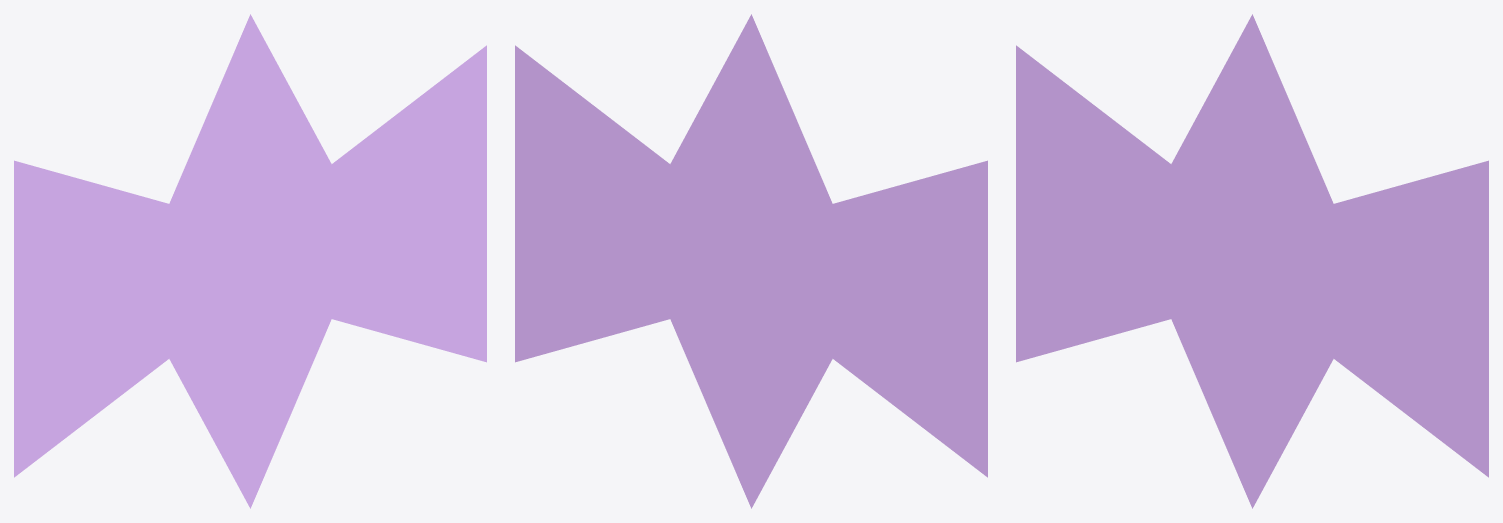
The model's file is landmark.gltf.
3 views of the same model, side by side, from view 1: azimuth 30°, elevation 25°; view 2: azimuth 150°, elevation 25°; view 3: azimuth 330°, elevation 25° (orthographic).
Parts seen in each view (by area): view 1: East crystal, North crystal, West crystal, South crystal; view 2: East crystal, North crystal, West crystal, South crystal; view 3: West crystal, North crystal, East crystal, South crystal.
Part boxes in pixels (x1,y1,x2,y2): East crystal: (184, 45, 486, 362); North crystal: (99, 14, 401, 367); West crystal: (14, 160, 237, 477); South crystal: (99, 177, 331, 508); East crystal: (515, 45, 817, 362); North crystal: (600, 14, 902, 367); West crystal: (753, 160, 987, 477); South crystal: (608, 171, 902, 508); West crystal: (1016, 45, 1318, 362); North crystal: (1101, 14, 1403, 367); East crystal: (1254, 160, 1488, 477); South crystal: (1101, 155, 1403, 508).
Size of the model in its own units: 1.56 by 1.56 by 0.
